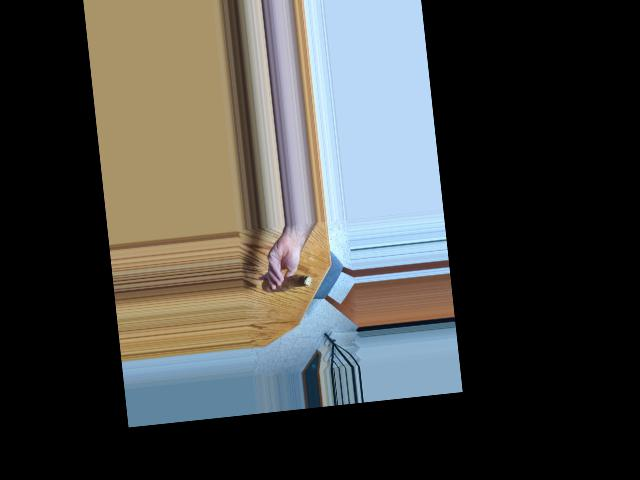sweet_potato: (265, 274, 307, 298)
